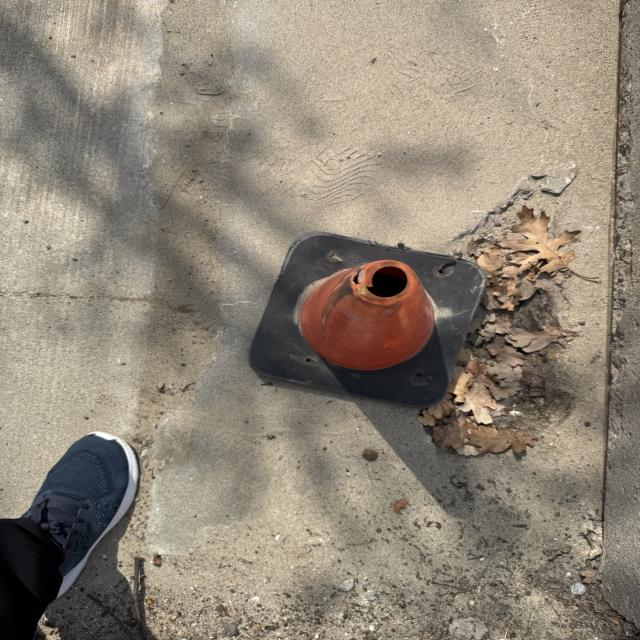Traffic Cone: (251, 232, 493, 409)
